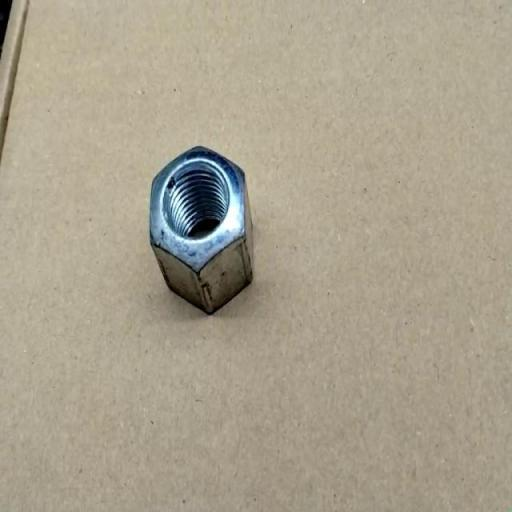Nut: (148, 145, 253, 315)
